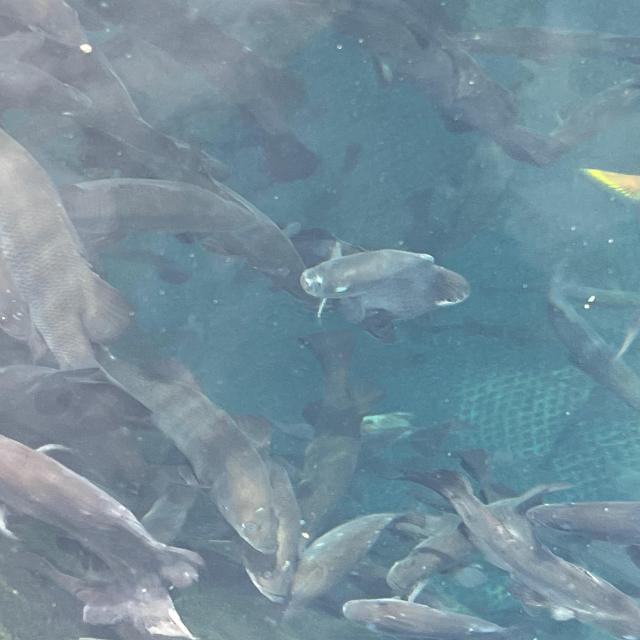ikan: (138, 345, 334, 557), (246, 206, 531, 335)
